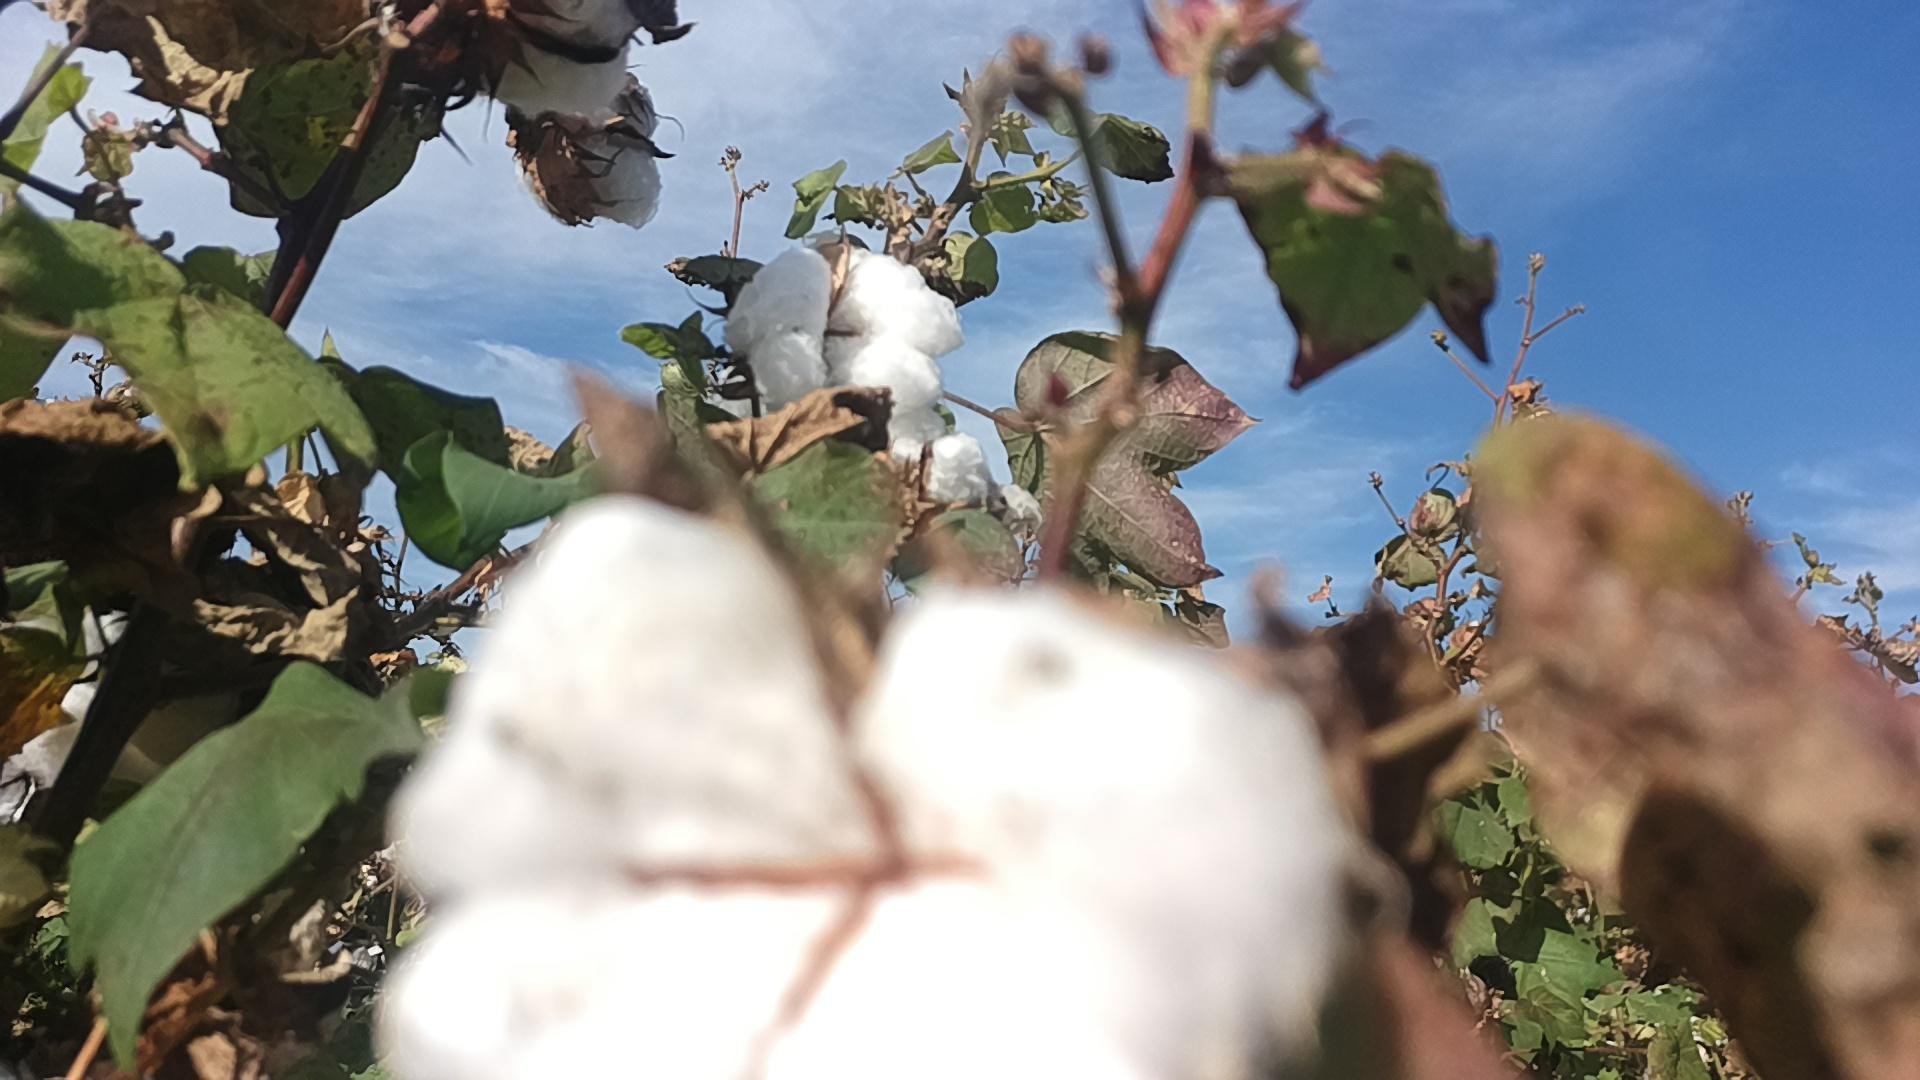cotton_ready: (378, 493, 1337, 1080), (716, 251, 961, 417), (886, 405, 1047, 553)
